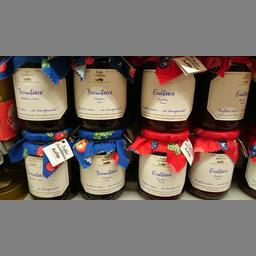jam: (68, 56, 130, 128), (10, 56, 68, 130), (132, 127, 190, 198), (140, 57, 196, 128), (185, 127, 240, 199), (16, 129, 72, 199), (73, 127, 127, 198), (196, 56, 250, 127)
